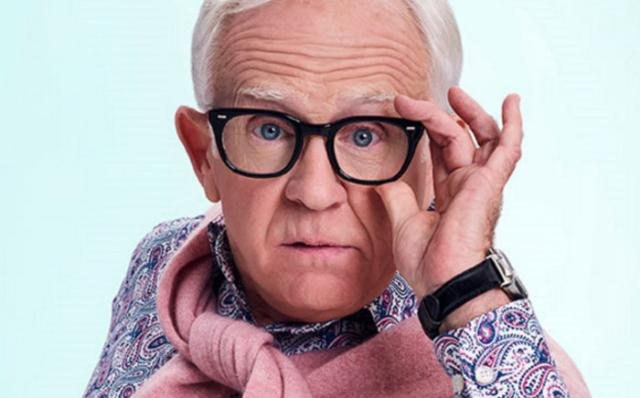forehead: (272, 48, 304, 82), (310, 54, 346, 84), (390, 50, 418, 88), (226, 22, 258, 50), (354, 52, 386, 80), (232, 56, 266, 82)
gummy_smile: (348, 204, 378, 246), (258, 206, 280, 242)
